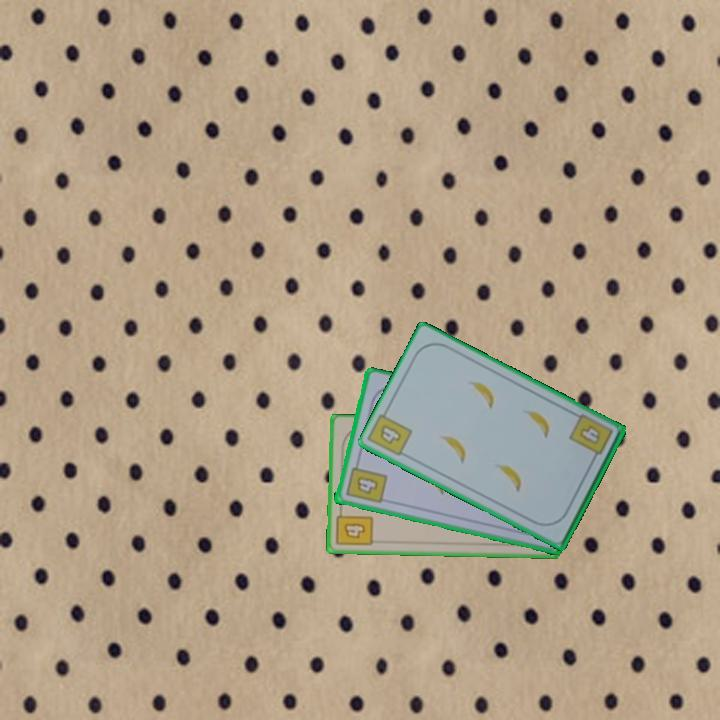4b: (566, 410, 616, 465), (342, 457, 389, 506), (333, 505, 375, 549), (376, 421, 404, 447)
